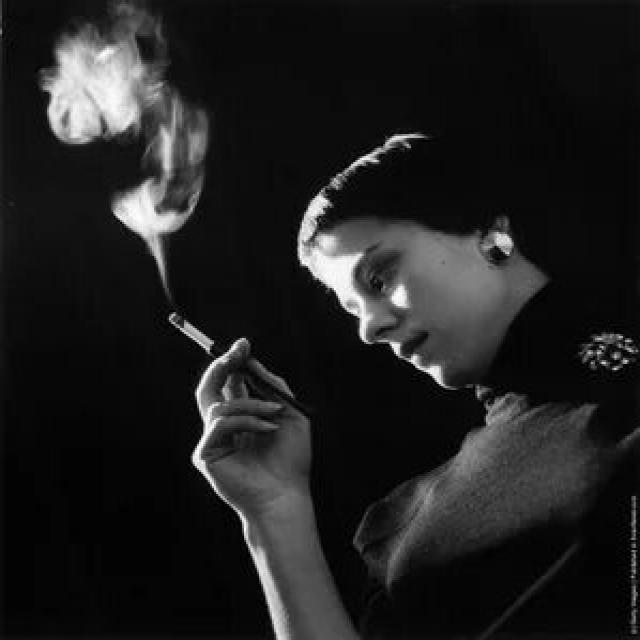cigarette: (165, 310, 222, 364)
